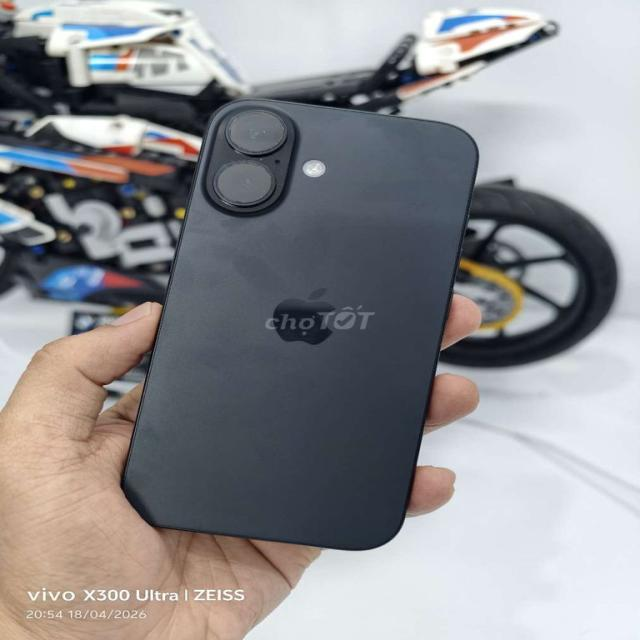gen_16: (123, 99, 477, 549)
scratch: (250, 150, 275, 166)
